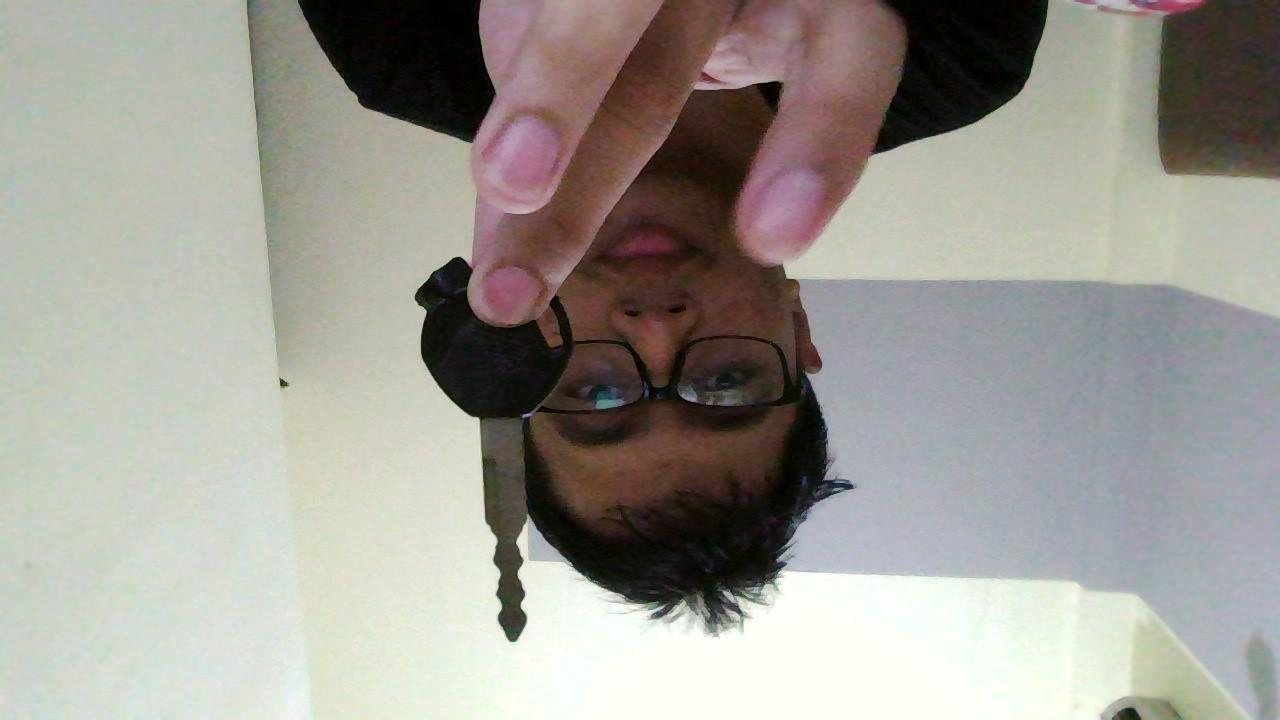keys: (406, 241, 577, 658)
